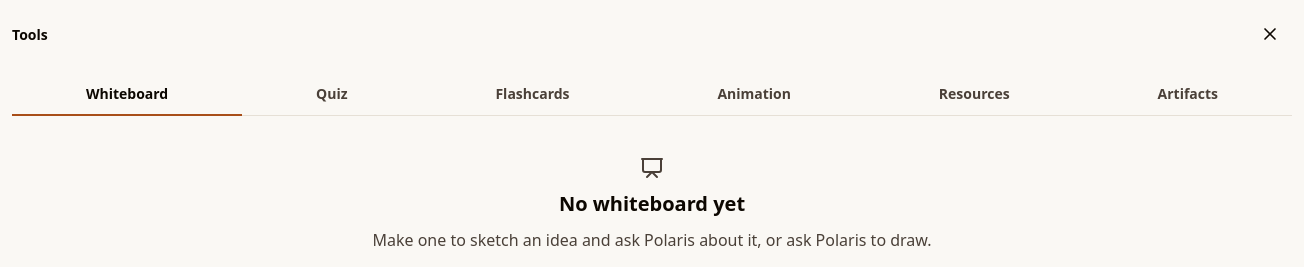
Test: each tab shows an empty state when the session has nothing yet
Expected: the heading "No whiteboard yet" is shown, [559,192,745,216]
Click the tab "Quiz".
click(332, 94)  # box [242,72,422,116]
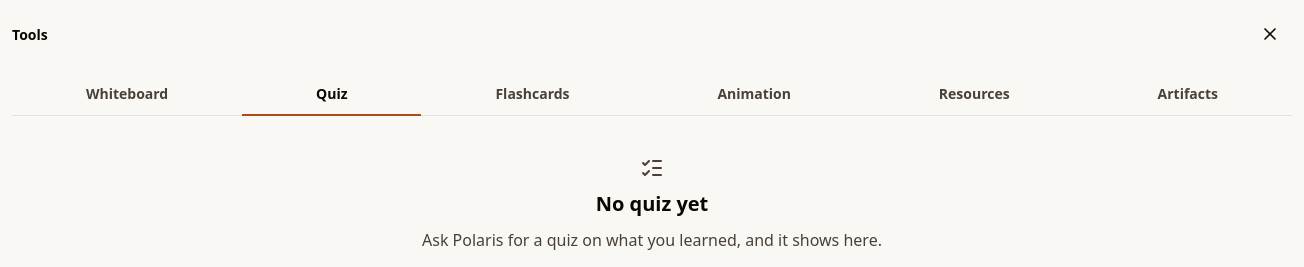
Result: the heading "No quiz yet" is shown at [596,192,708,216]
Click the tab "Flashcards".
click(532, 94)  # box [422,72,644,116]
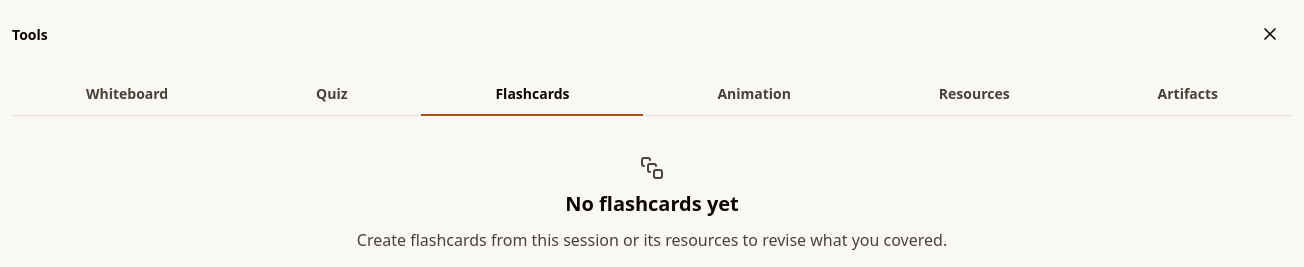
Result: the heading "No flashcards yet" is shown at [565,192,739,216]
Click the tab "Animation".
click(754, 94)  # box [644,72,865,116]
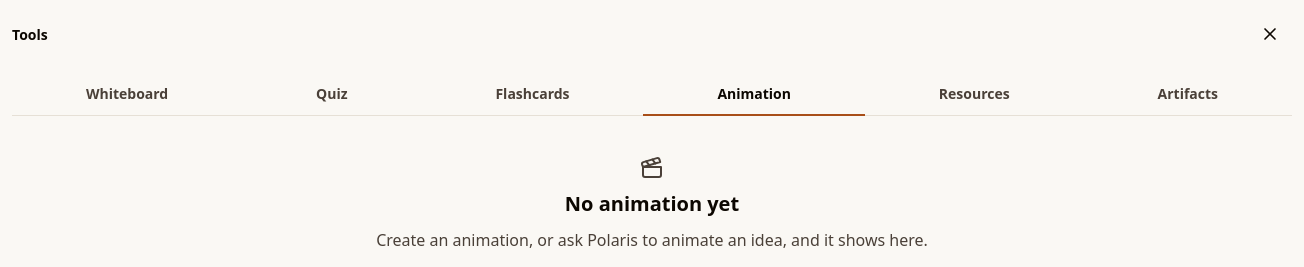
Result: the heading "No animation yet" is shown at [565,192,739,216]
Click the tab "Artifacts".
click(1188, 94)  # box [1084,72,1292,116]
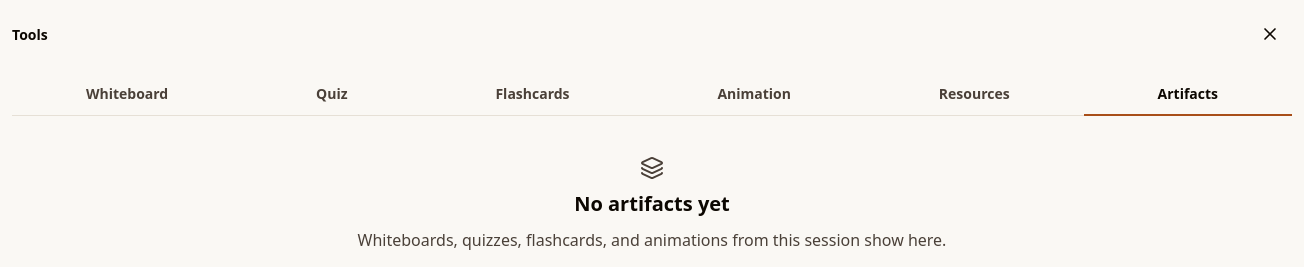
Result: the heading "No artifacts yet" is shown at [574,192,730,216]
